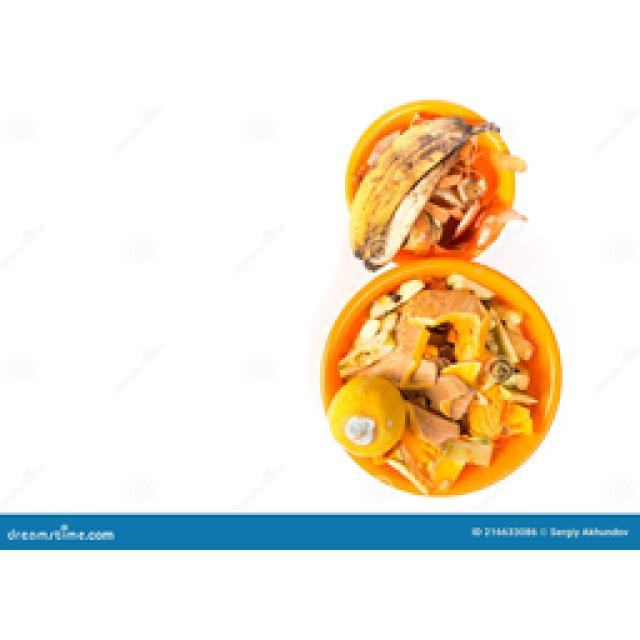food_waste: (330, 273, 538, 492), (348, 105, 522, 268)
